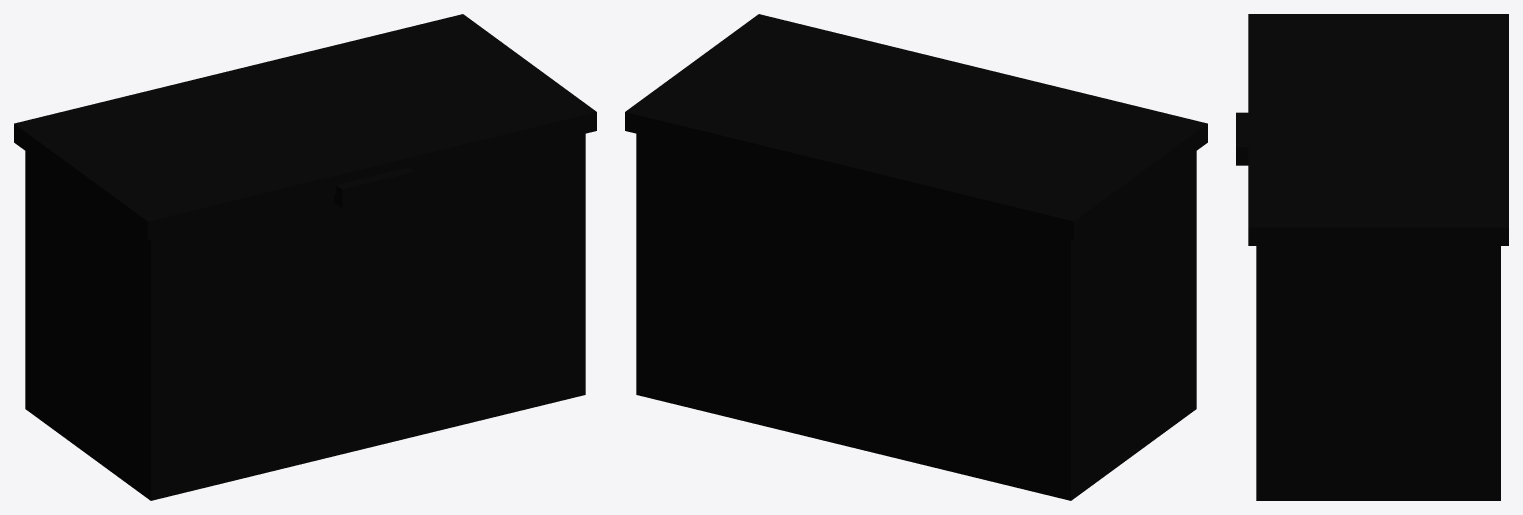
The model's file is SM_bear_box.fbx.
The picture shows the model from 3 angles, left to right: view 1: azimuth 30°, elevation 25°; view 2: azimuth 150°, elevation 25°; view 3: azimuth 270°, elevation 25°; orthographic projection. The views are drawn at different scales.
Parts seen in each view (by area): view 1: bear_box, bear_box_lid; view 2: bear_box, bear_box_lid; view 3: bear_box, bear_box_lid.
Boxes of the visible parts, x1,y1,x2,y2 form: bear_box: [25, 133, 585, 500]; bear_box_lid: [14, 14, 596, 240]; bear_box: [636, 133, 1196, 500]; bear_box_lid: [625, 14, 1207, 240]; bear_box: [1256, 246, 1500, 500]; bear_box_lid: [1236, 14, 1508, 245].
Bounding box in the file's own units: 1.24 × 0.75 × 0.67.
